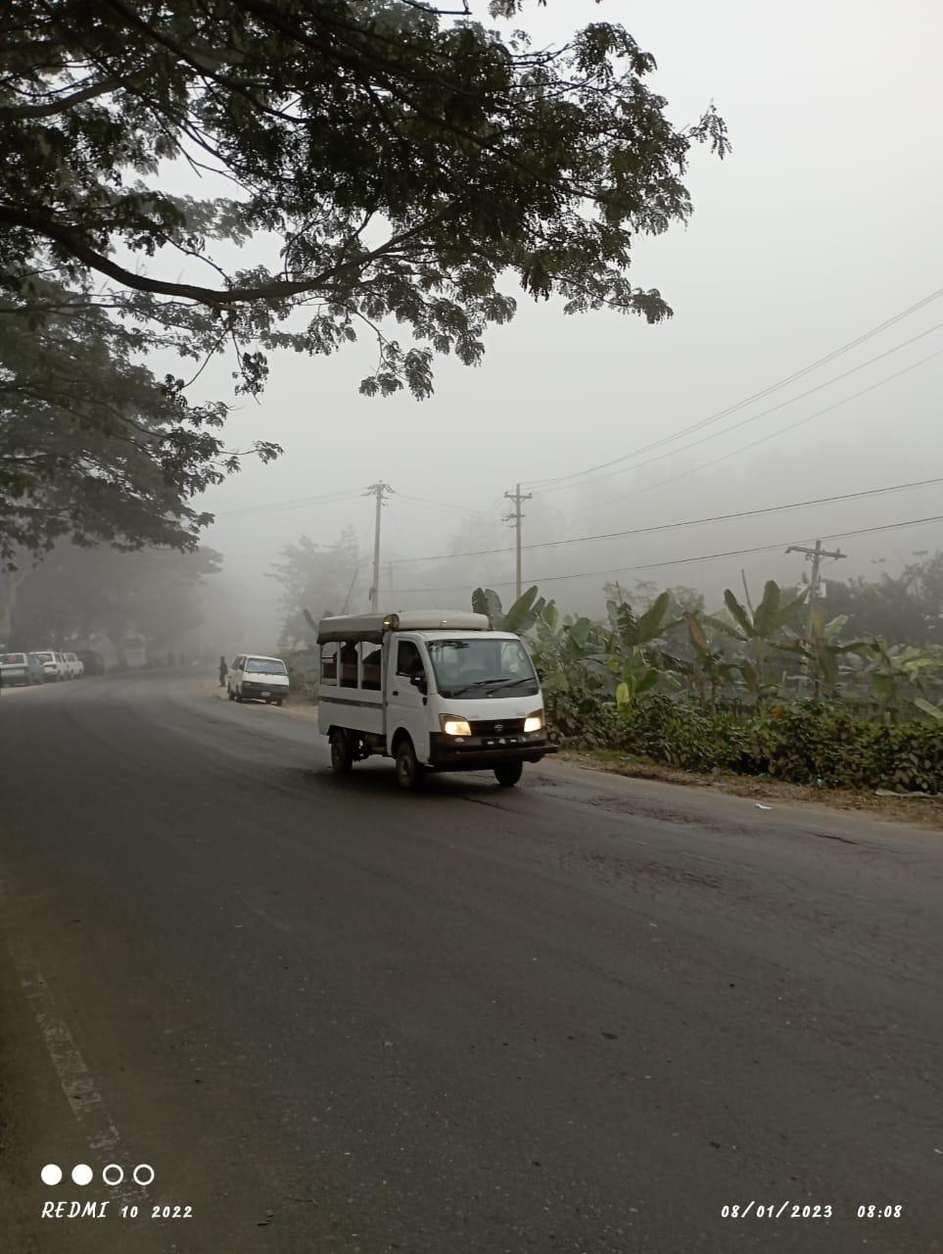Car: (306, 603, 553, 796), (213, 640, 300, 705)
